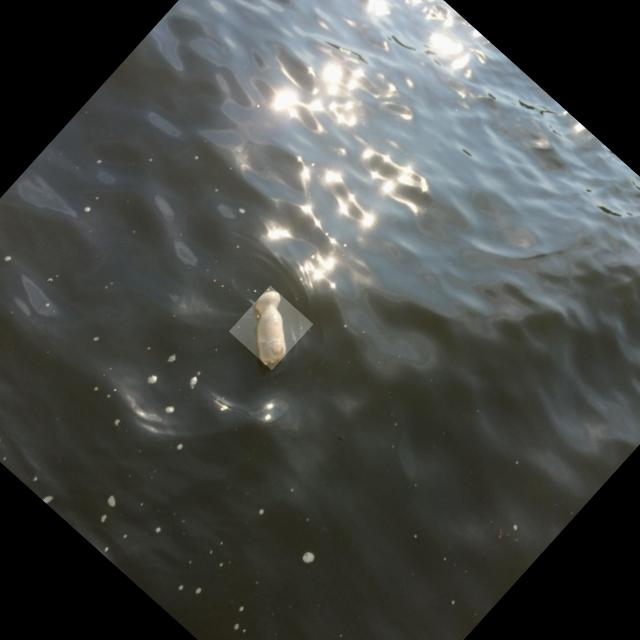Clear plastic bottle: (256, 290, 286, 365)
